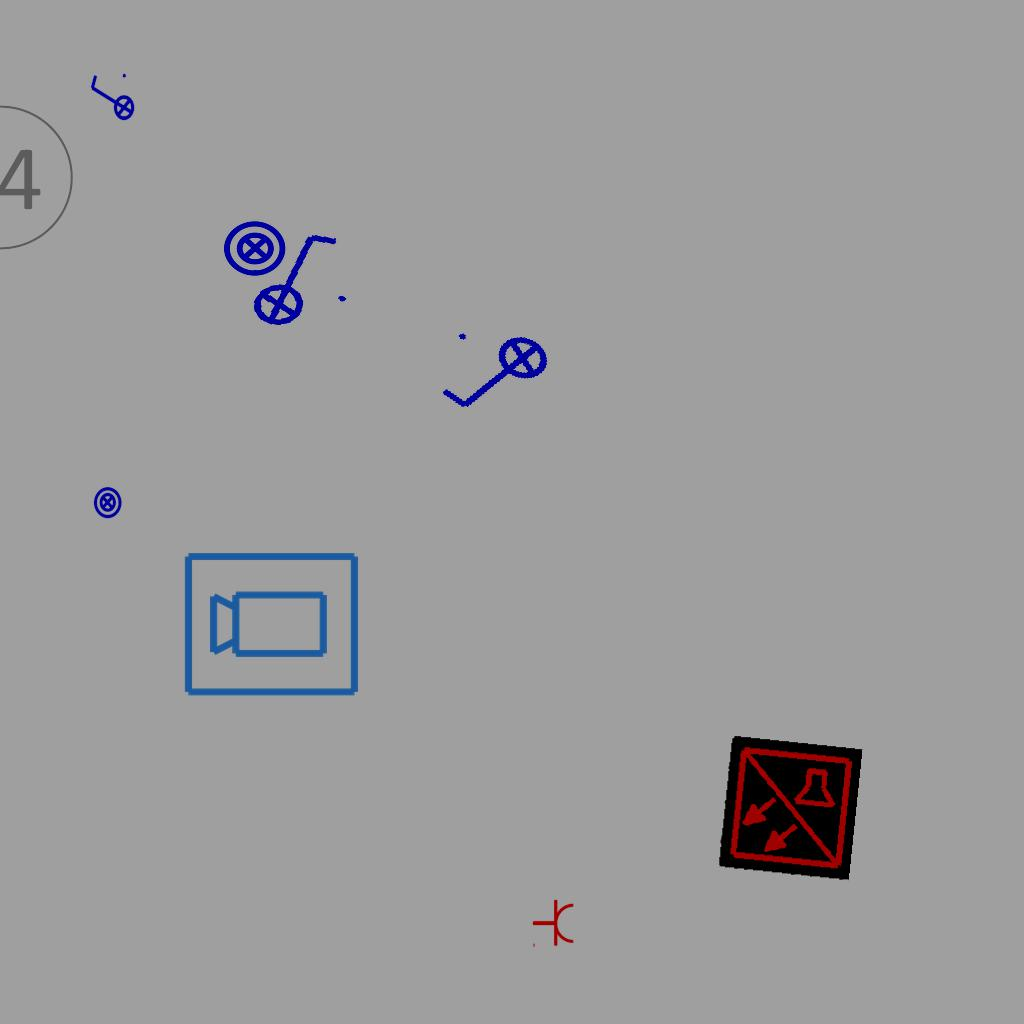Ausschalter_beleuchtet: (429, 313, 567, 441), (232, 223, 354, 331), (87, 71, 135, 127)
KFO_Kamera_mit_Festobjektiv: (181, 546, 363, 700)
OKW_Multisensormelder_(Kombination_optischer_Rauch-Kahlenmonoxid_Waerme-Melder): (717, 735, 863, 881)
Schukosteckdose_einfach: (532, 899, 575, 949)
Taster_beleuchtet: (222, 215, 288, 281), (91, 486, 124, 519)
